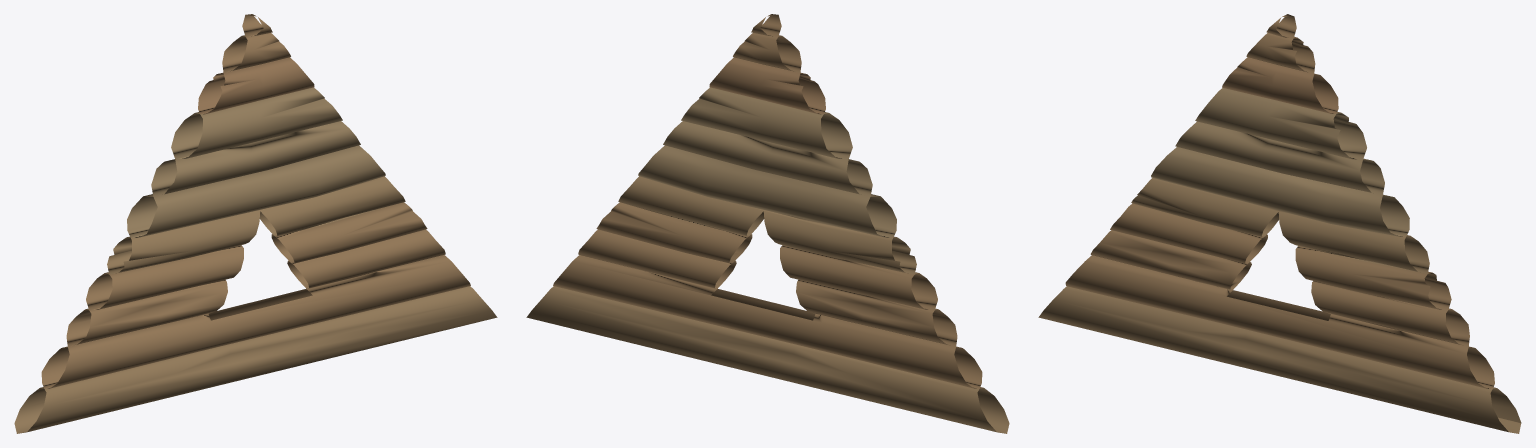
Rendered from rpgpp_ag_roof_end_01_6x5_wall_window_01e.fbx.
3 views of the same model, side by side, from view 1: azimuth 30°, elevation 25°; view 2: azimuth 150°, elevation 25°; view 3: azimuth 330°, elevation 25° (orthographic).
Visible parts, largest first — view 1: rpgpp_ag_roof_end_01_6x5_wall_window_01e; view 2: rpgpp_ag_roof_end_01_6x5_wall_window_01e; view 3: rpgpp_ag_roof_end_01_6x5_wall_window_01e.
Boxes of the visible parts, box(x1,y1,x2,y2) form: rpgpp_ag_roof_end_01_6x5_wall_window_01e: box(14, 14, 497, 433); rpgpp_ag_roof_end_01_6x5_wall_window_01e: box(526, 14, 1009, 433); rpgpp_ag_roof_end_01_6x5_wall_window_01e: box(1038, 14, 1521, 433).
Size of the model in its own units: 6.35 by 4.56 by 0.5143.
